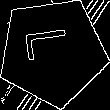L_E: (26, 33, 79, 71)
